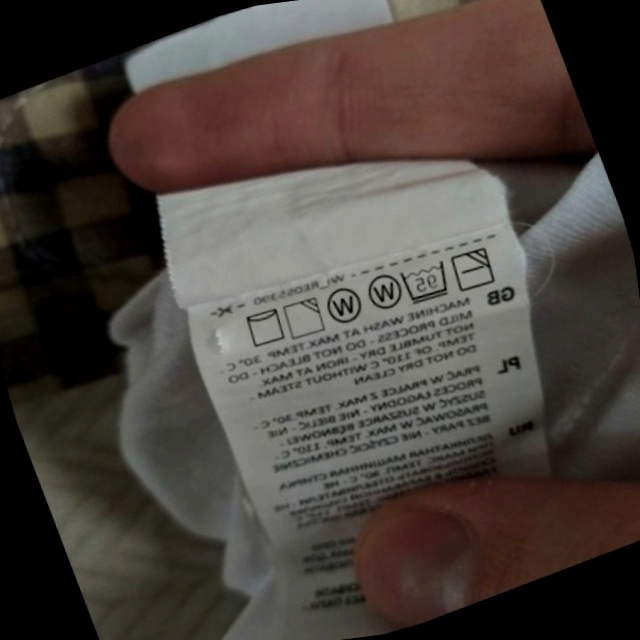95C: (392, 251, 459, 312)
dry_flat_in_shade: (444, 238, 503, 299)
line_dry: (236, 299, 293, 355)
shade_dry: (275, 289, 332, 347)
wet_clean: (356, 263, 410, 320), (317, 278, 371, 334)
